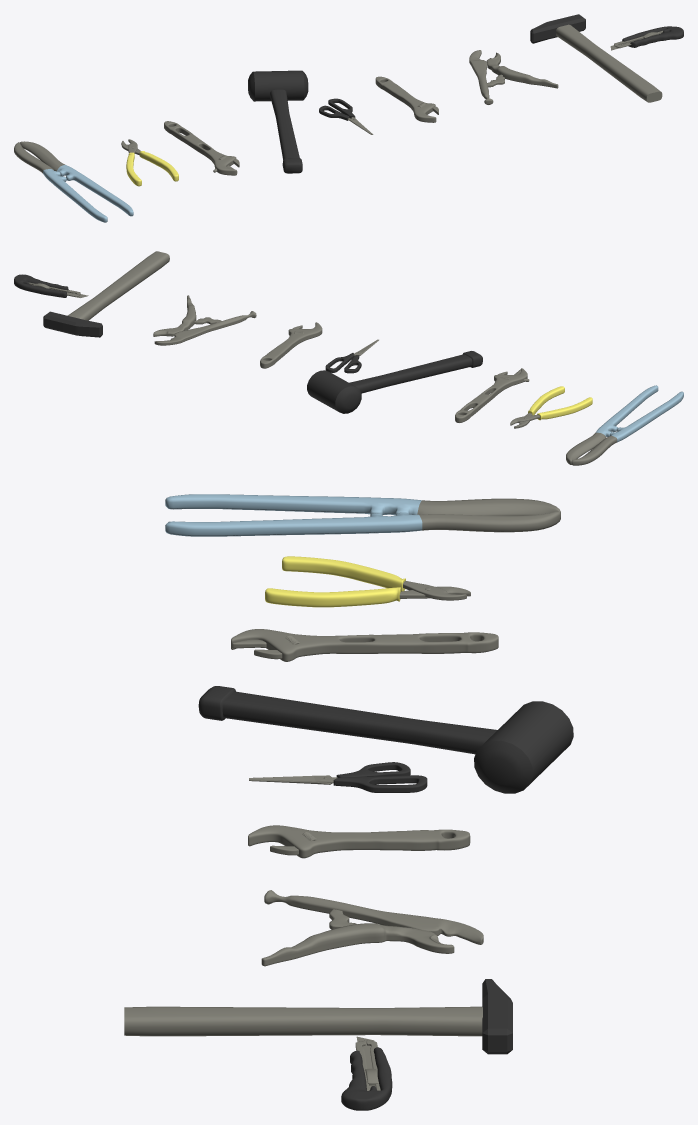
The model's file is Tools.fbx.
The picture shows the model from 3 angles, top to bottom: view 1: azimuth 30°, elevation 25°; view 2: azimuth 150°, elevation 25°; view 3: azimuth 270°, elevation 25°; orthographic projection. The views are drawn at different scales.
Visible parts, largest first — view 1: Tool6, Tool2, Tool9, Tool3, Tool7, Tool4, Tool1, Tool8, Tool5; view 2: Tool6, Tool2, Tool9, Tool3, Tool7, Tool8, Tool4, Tool1, Tool5; view 3: Tool6, Tool9, Tool2, Tool3, Tool7, Tool8, Tool4, Tool1, Tool5.
Boxes of the visible parts, <box> form: Tool6: <box>248,70,308,173</box>; Tool2: <box>530,14,662,102</box>; Tool9: <box>14,141,133,222</box>; Tool3: <box>469,50,558,104</box>; Tool7: <box>164,121,239,175</box>; Tool4: <box>375,76,438,122</box>; Tool1: <box>610,26,683,50</box>; Tool8: <box>121,139,178,186</box>; Tool5: <box>319,98,373,134</box>; Tool6: <box>307,351,482,413</box>; Tool2: <box>43,251,169,337</box>; Tool9: <box>566,385,683,465</box>; Tool3: <box>153,295,256,345</box>; Tool7: <box>455,368,529,422</box>; Tool8: <box>510,386,592,428</box>; Tool4: <box>260,322,322,368</box>; Tool1: <box>14,274,88,297</box>; Tool5: <box>325,339,378,373</box>; Tool6: <box>198,686,573,793</box>; Tool9: <box>165,494,560,536</box>; Tool2: <box>124,979,512,1054</box>; Tool3: <box>261,890,483,966</box>; Tool7: <box>231,629,498,661</box>; Tool8: <box>265,556,470,607</box>; Tool4: <box>248,825,470,858</box>; Tool1: <box>341,1036,392,1110</box>; Tool5: <box>249,762,427,792</box>.
Size of the model in its own units: 118 by 4.99 by 37.02.
